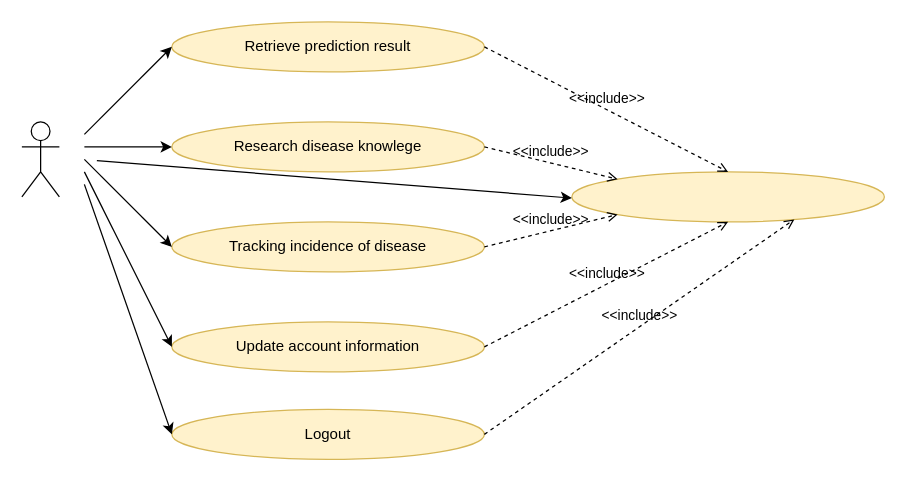
Image size: 906x481. Some labels were removed from this diagram. The box of each missing label's shape, as (x1, y1, x2, y2) in pixels:
Login: (571, 171, 884, 222)
User: (21, 121, 59, 197)
